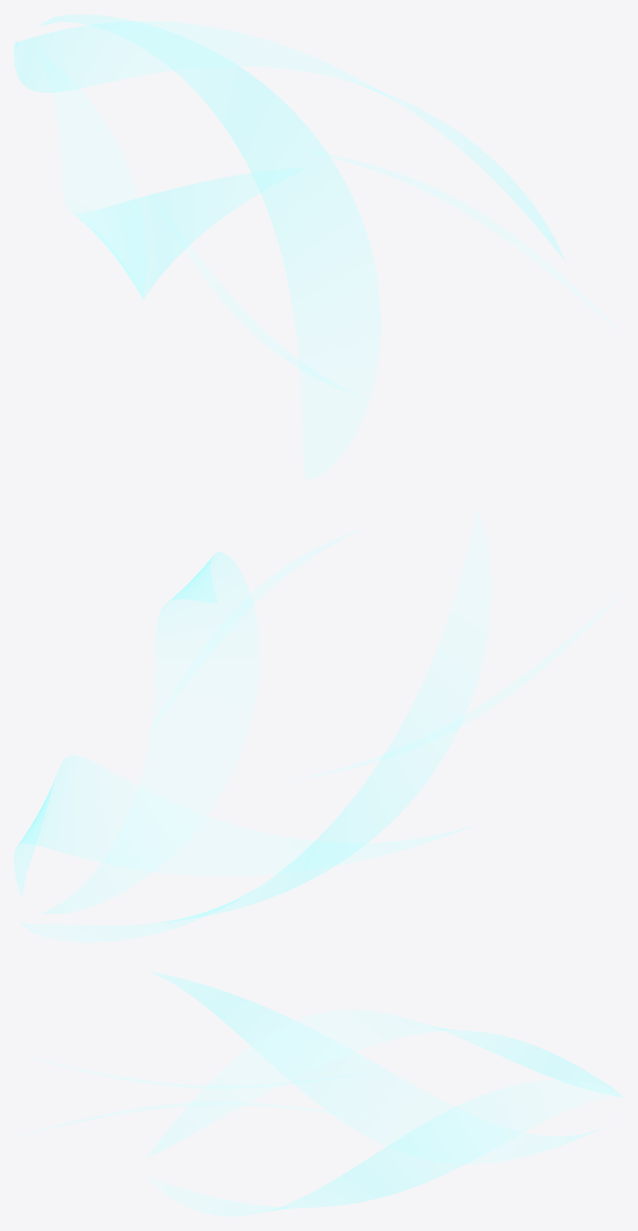
The model's file is qi-fist-r3.glb.
3 views of the same model, one above another, from view 1: azimuth 30°, elevation 25°; view 2: azimuth 150°, elevation 25°; view 3: azimuth 270°, elevation 25° (orthographic). The views are drawn at different scales.
Parts seen in each view (by area): view 1: qi-fist-r3; view 2: qi-fist-r3; view 3: qi-fist-r3.
Part boxes in pixels (x1,y1,x2,y2): qi-fist-r3: [14, 14, 618, 480]; qi-fist-r3: [14, 510, 620, 942]; qi-fist-r3: [24, 972, 623, 1216].
Bounding box in the file's own units: 0.6408 × 0.6212 × 1.6.
